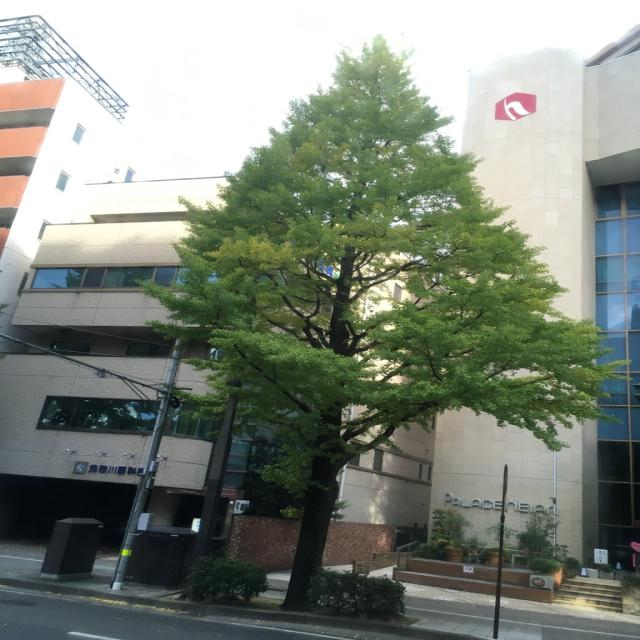ginkgo: (132, 30, 632, 615)
